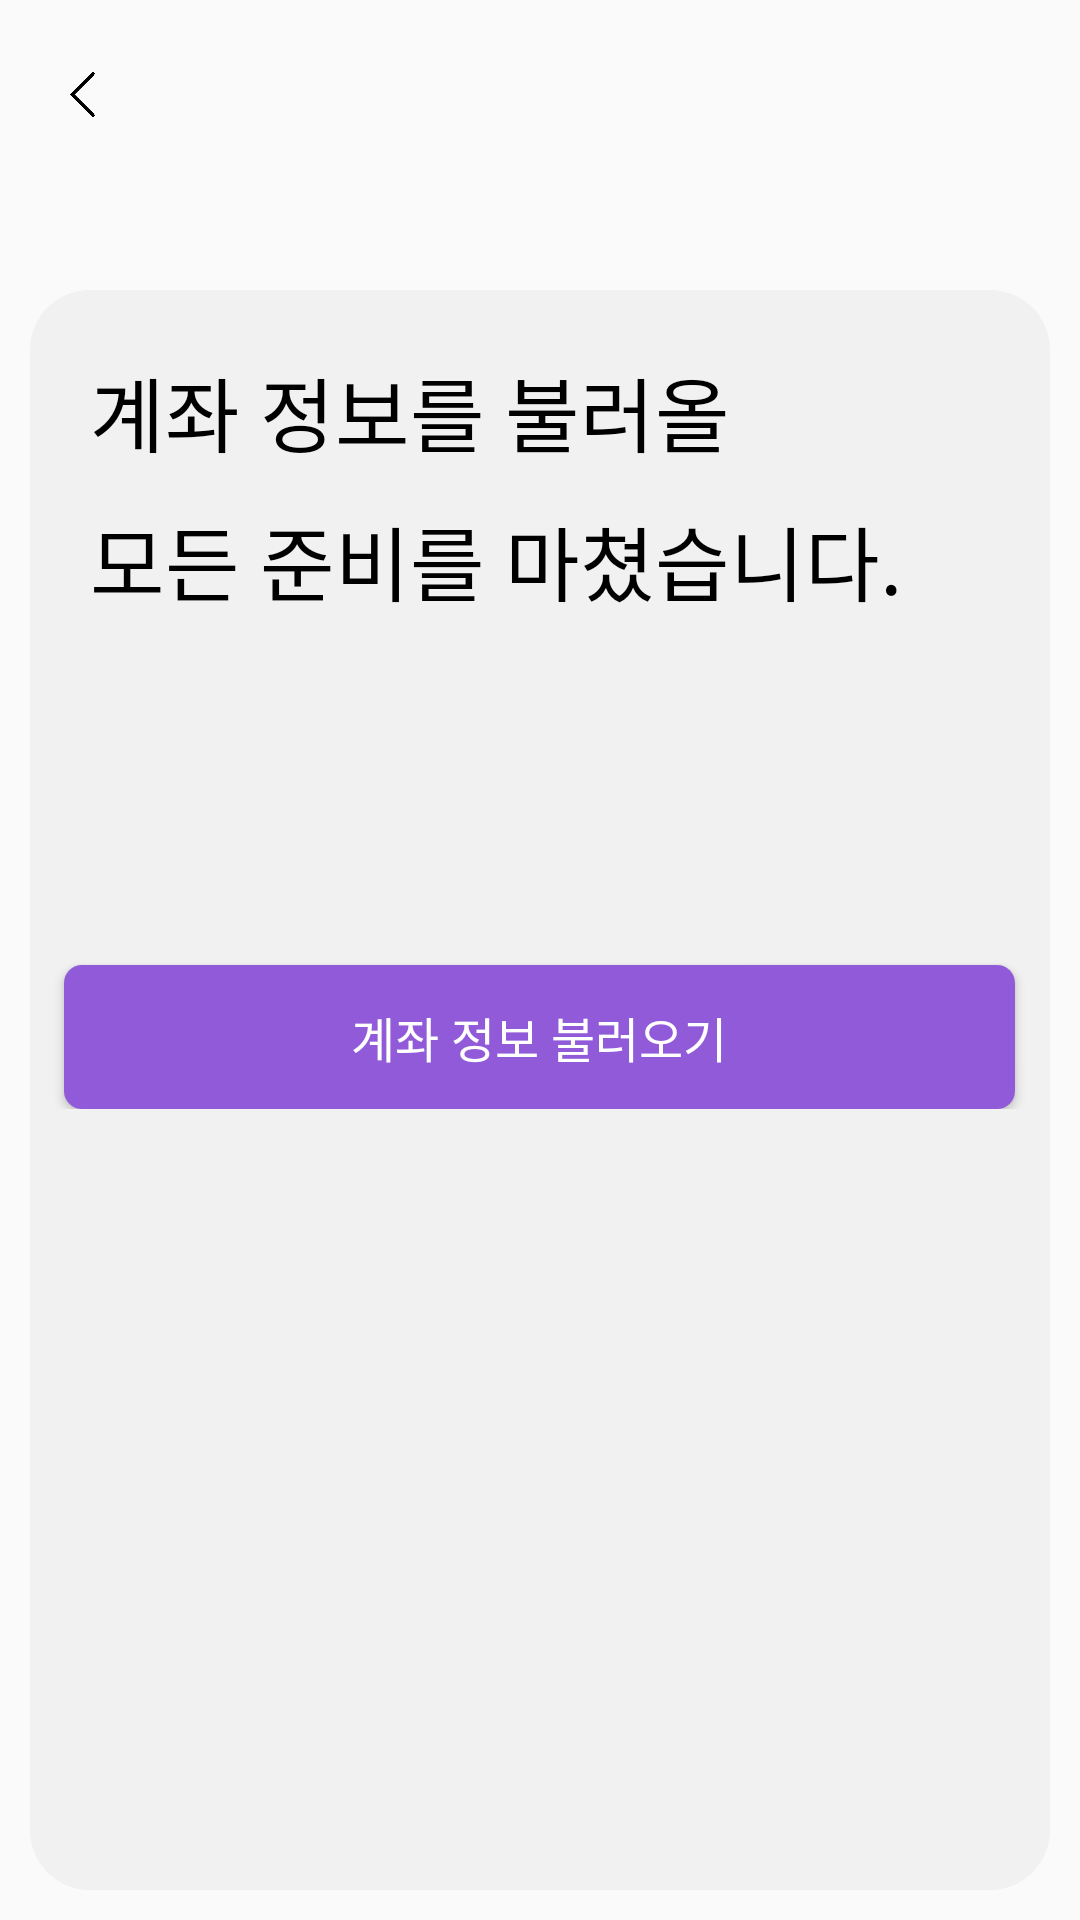

Screen size 1080w x 1920h. Icon name, then its center in pixels as (x,y):
back: (82,94)
